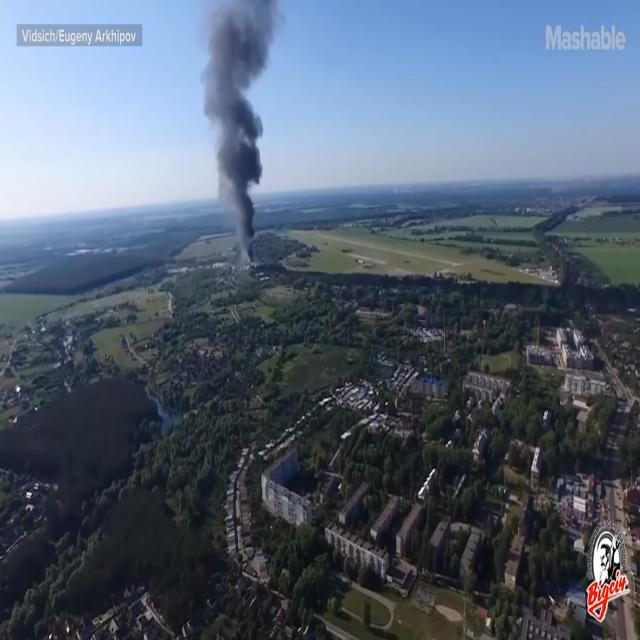smoke: (206, 0, 262, 126), (218, 138, 266, 261)
